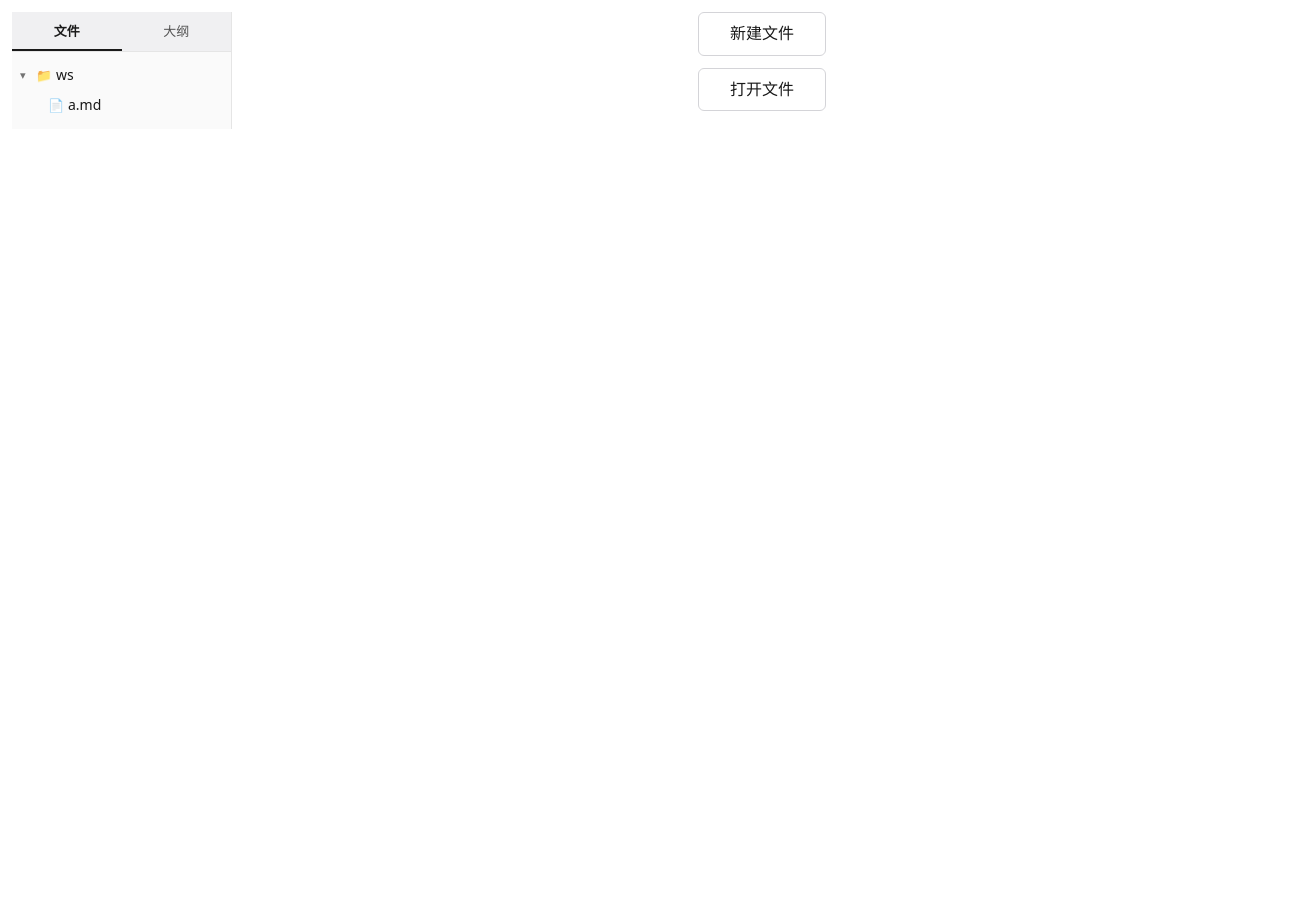
App file workflow › renames a file and updates the open tab title
Click the button "📄 a.md".
click(132, 105)  # box [32,90,231,121]
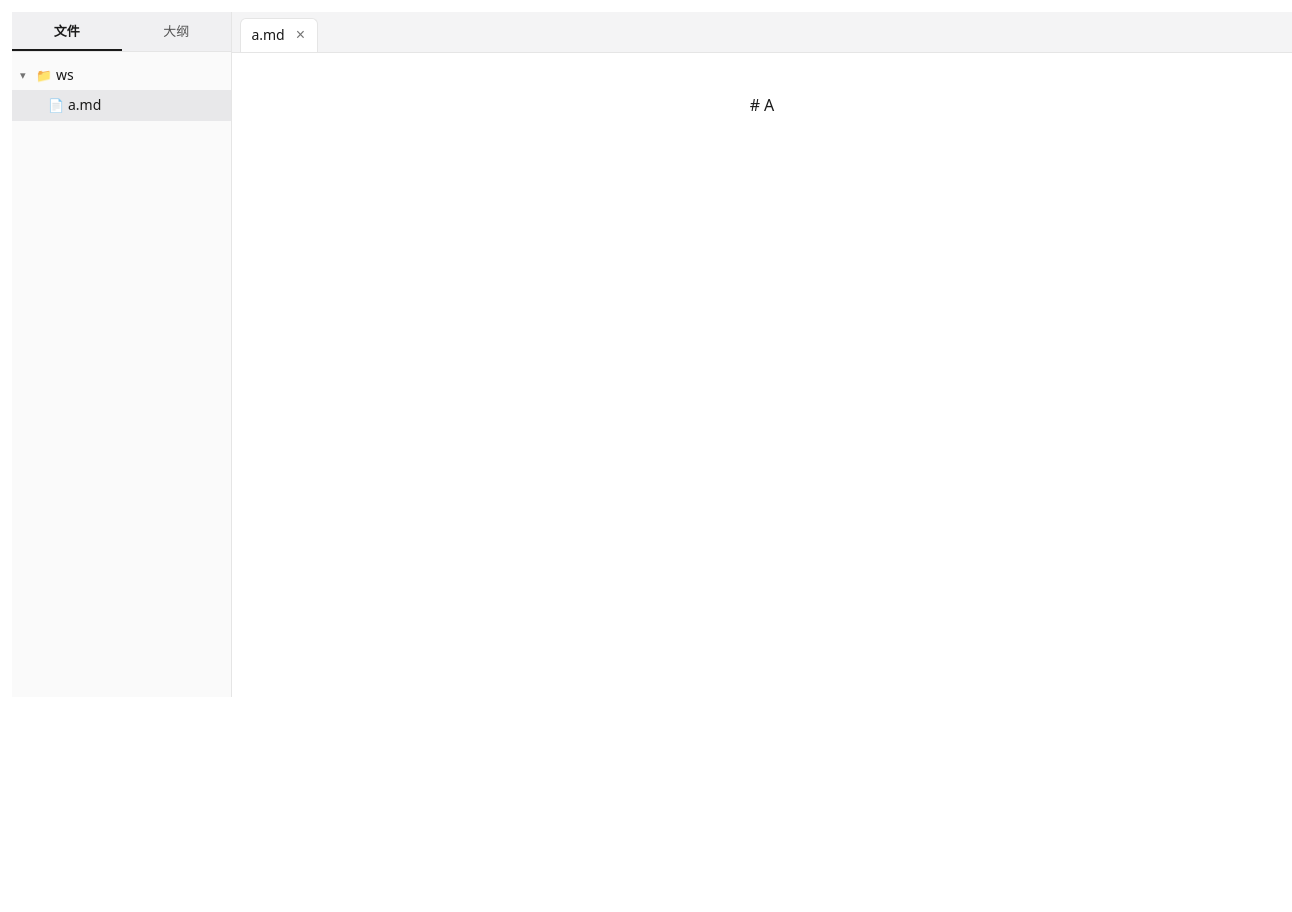
Right-click the button "📄 a.md".
right_click(132, 105)  # box [32,90,231,121]
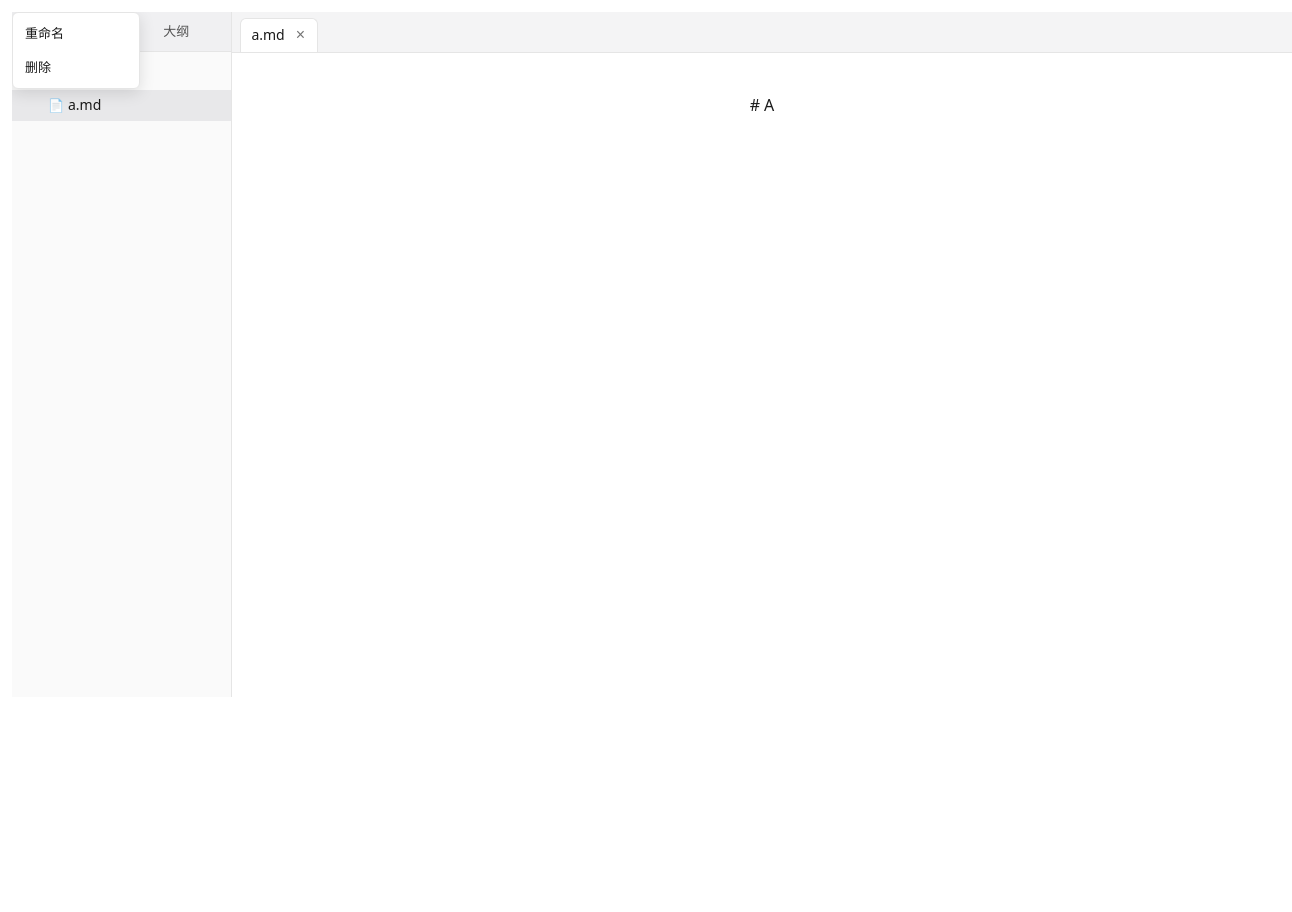
Expected: the menu item "重命名" is shown
Click the menu item "重命名".
click(76, 34)  # box [13,17,139,51]
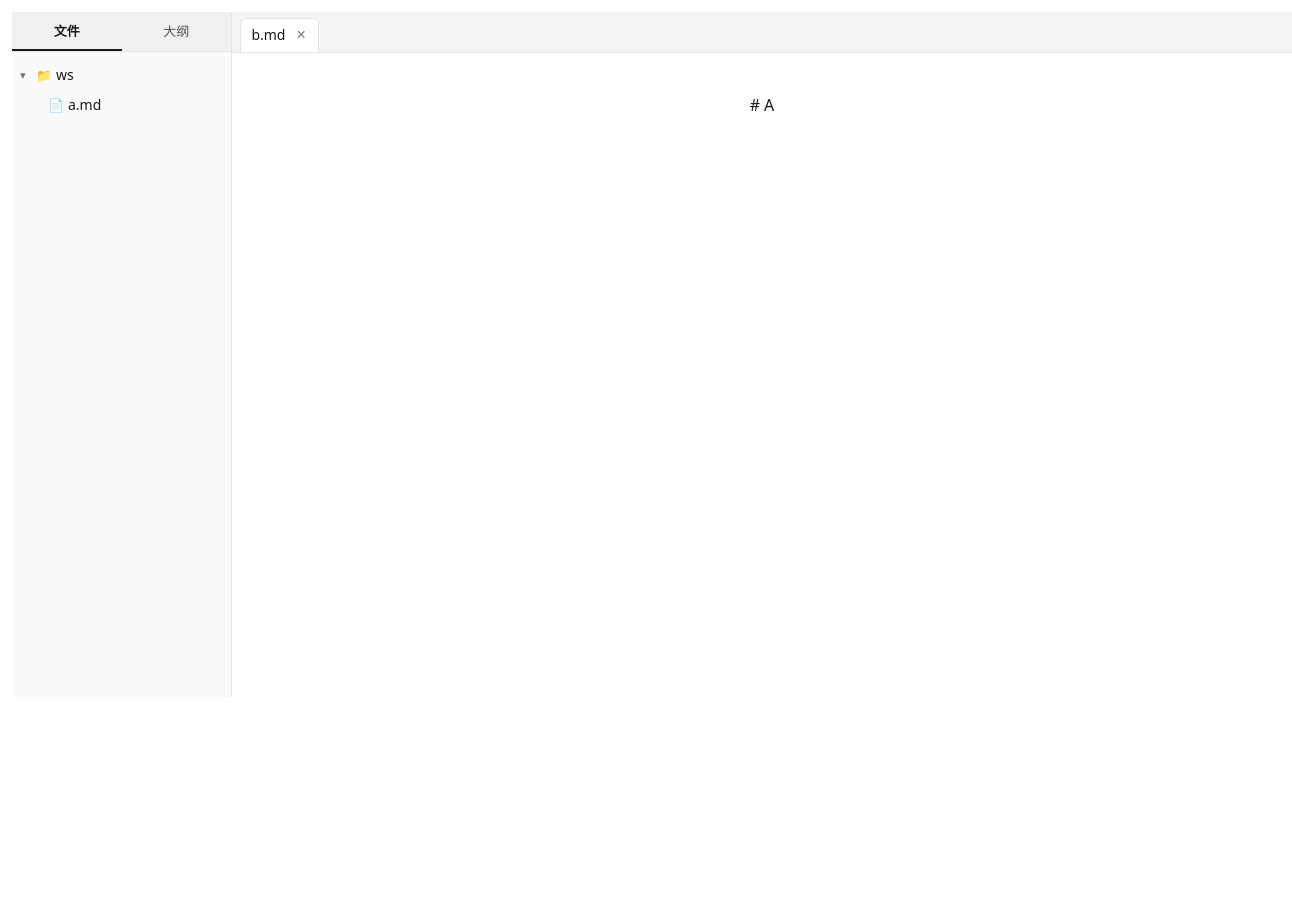
Expected: the text "b.md" is shown, [251,24,286,47]
